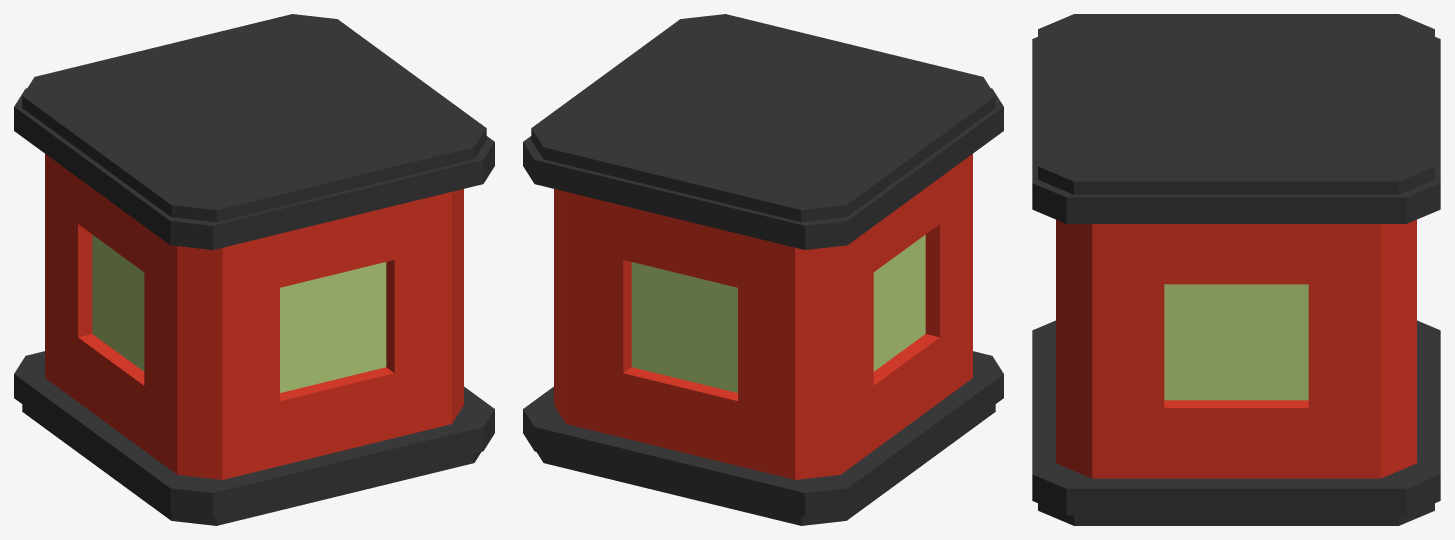
Rendered from LootCrate.fbx.
3 renders of one model, left to right at view 1: azimuth 30°, elevation 25°; view 2: azimuth 150°, elevation 25°; view 3: azimuth 270°, elevation 25°, orthographic. The views are drawn at different scales.
Visible parts, largest first — view 1: Cube; view 2: Cube; view 3: Cube.
Part boxes in pixels (x1,y1,x2,y2): Cube: (14,14,494,525); Cube: (523,14,1003,525); Cube: (1032,14,1440,525).
Bounding box in the file's own units: 227 × 211 × 227.
